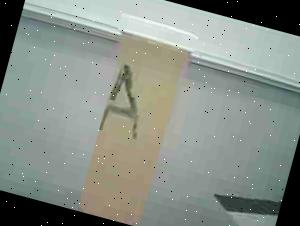Bottle A: (60, 1, 204, 226)
